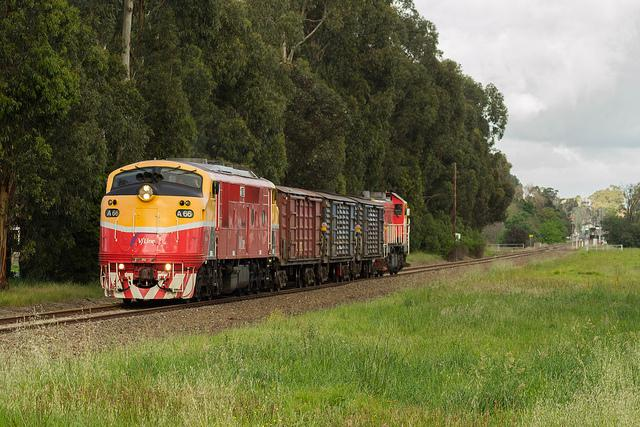Train: (98, 162, 408, 303)
